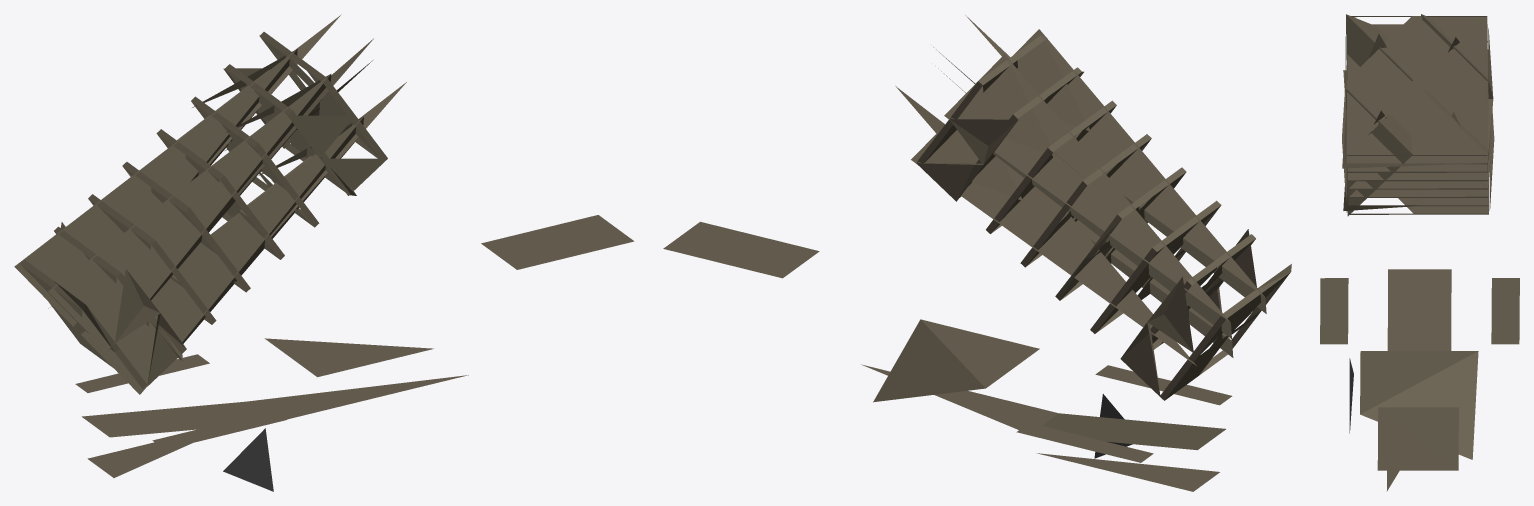
3 views of the same model, side by side, from view 1: azimuth 30°, elevation 25°; view 2: azimuth 150°, elevation 25°; view 3: azimuth 270°, elevation 25° (orthographic). The views are drawn at different scales.
Visible parts, largest first — view 1: Object_2; view 2: Object_2; view 3: Object_2.
Part boxes in pixels (box(x1,y1,x2,y2)): Object_2: box(14, 14, 634, 491); Object_2: box(663, 15, 1291, 491); Object_2: box(1320, 14, 1519, 491).
Size of the model in its own units: 982 by 686 by 268.
